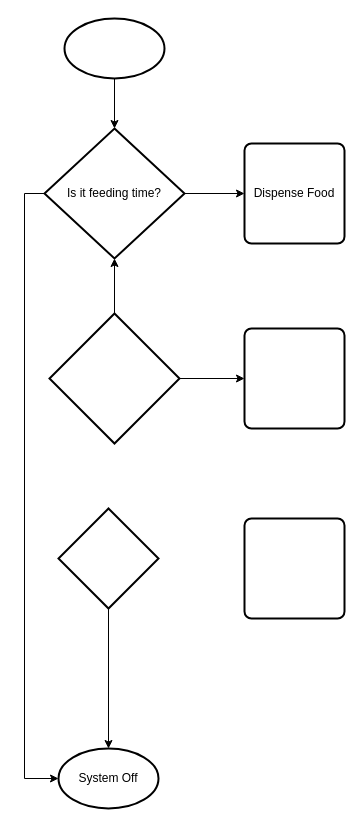
This 363x826 diagram has some shape labels left out. Here are the shapes that lost their labels. From the top down, the box of each, then its label:
(63, 17, 165, 79): System On
(48, 312, 180, 444): Is there food in the container?
